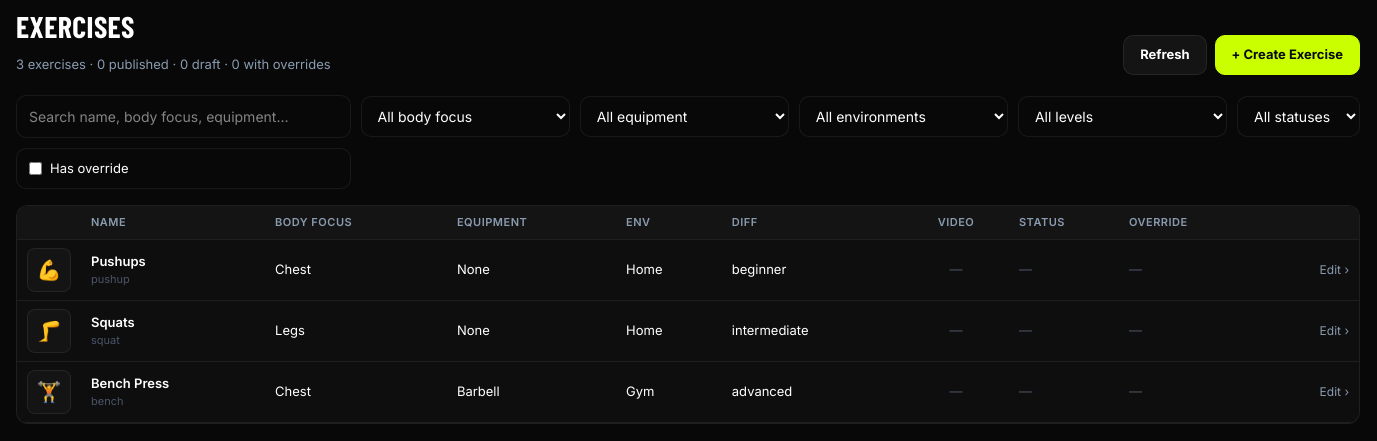
Test: ExercisesPage › filters by body focus
Expected: the text "Pushups" is shown, x1=91 y1=252 x2=146 y2=268
Select "Legs" in the 1st dropdown at {"x": 465, "y": 116}, box x1=361 y1=96 x2=570 y2=136
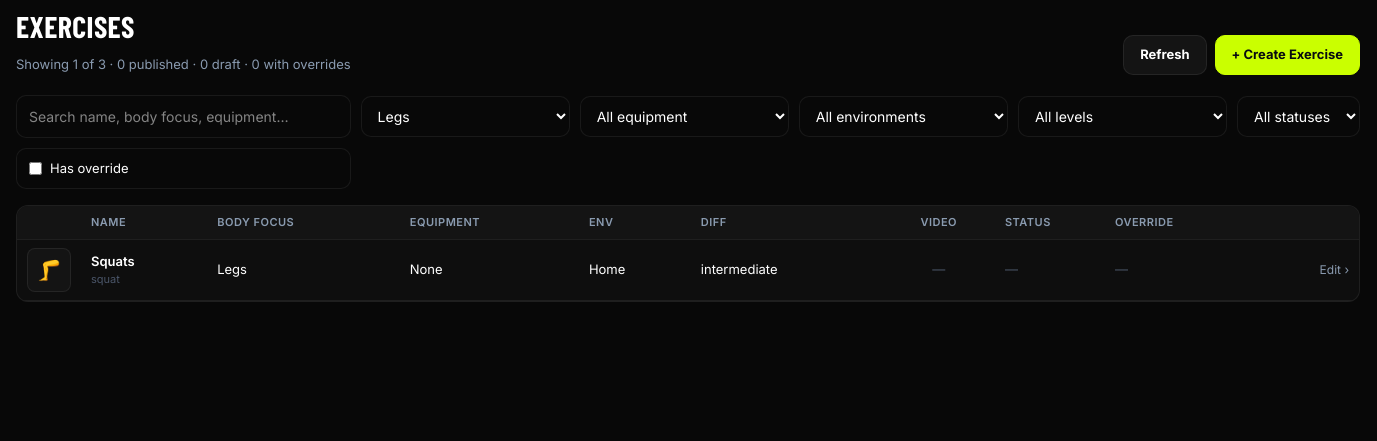
Expected: the text "Squats" is shown, x1=91 y1=252 x2=135 y2=268
Result: the text "Pushups" is gone
